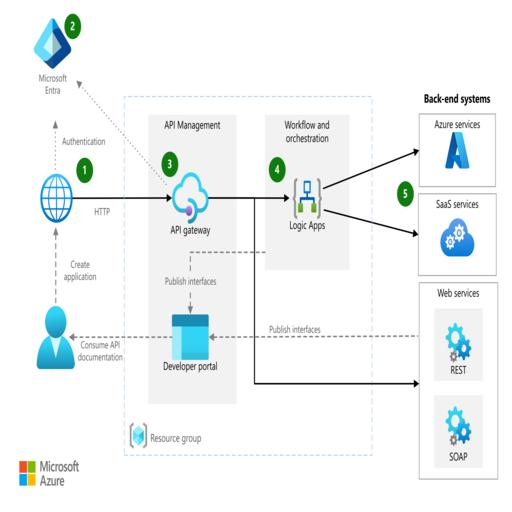actor: (36, 305, 74, 369), (40, 172, 73, 222)
api_gateway: (77, 64, 164, 187), (226, 197, 282, 356), (324, 144, 414, 196), (324, 197, 414, 248), (255, 380, 419, 386), (71, 334, 173, 340), (252, 302, 255, 464), (73, 194, 150, 200), (218, 194, 290, 200), (55, 226, 58, 300), (189, 248, 192, 304), (55, 119, 58, 173)
compute: (173, 170, 211, 219)
data_flow: (417, 282, 496, 478), (417, 191, 496, 275), (417, 109, 496, 183), (33, 15, 71, 69)
database_storage: (173, 312, 211, 362), (290, 172, 324, 222)
trust_boundary: (124, 94, 372, 454), (409, 48, 504, 478), (147, 114, 237, 403), (265, 114, 349, 270)
